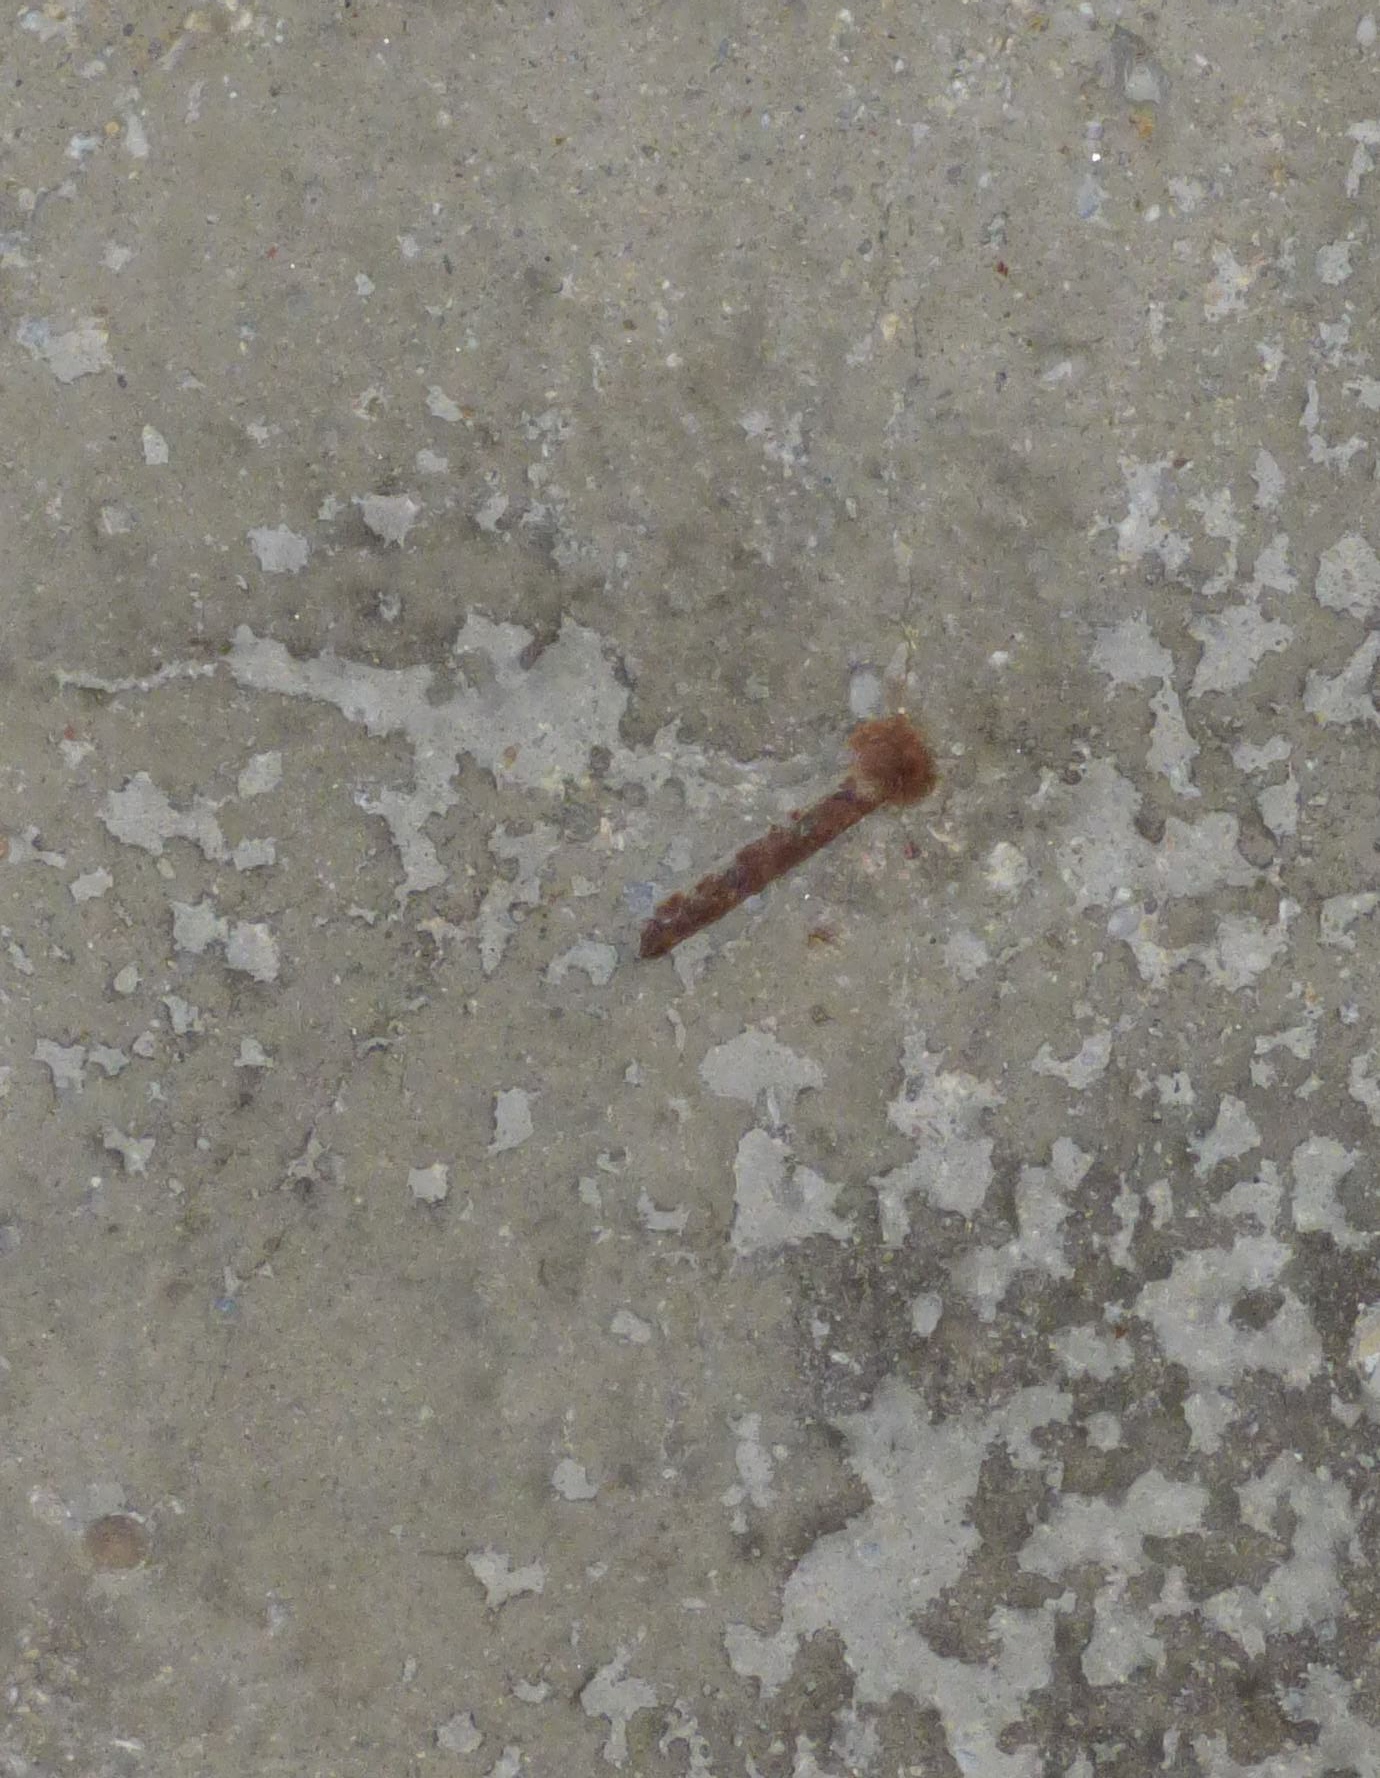Corrosion: (847, 714, 935, 808)
Exposed reinforcement: (637, 763, 904, 961)
